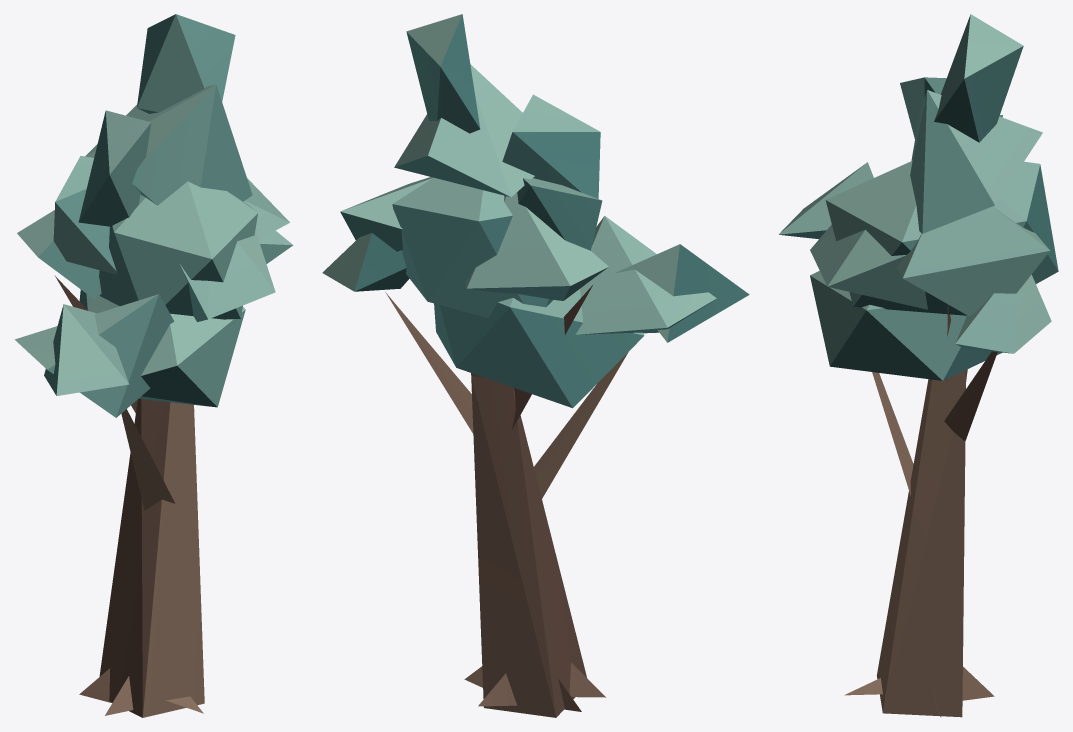
The picture shows the model from 3 angles, left to right: view 1: azimuth 30°, elevation 25°; view 2: azimuth 150°, elevation 25°; view 3: azimuth 270°, elevation 25°; orthographic projection. The views are drawn at different scales.
Parts seen in each view (by area): view 1: WK_RegularTree_CoolEvergreen_LOD2_Compact; view 2: WK_RegularTree_CoolEvergreen_LOD2_Compact; view 3: WK_RegularTree_CoolEvergreen_LOD2_Compact.
Boxes of the visible parts, <box> form: WK_RegularTree_CoolEvergreen_LOD2_Compact: <box>14,14,293,717</box>; WK_RegularTree_CoolEvergreen_LOD2_Compact: <box>322,14,749,717</box>; WK_RegularTree_CoolEvergreen_LOD2_Compact: <box>779,14,1058,717</box>.
Bounding box in the file's own units: 3.61 × 7.41 × 2.62.
